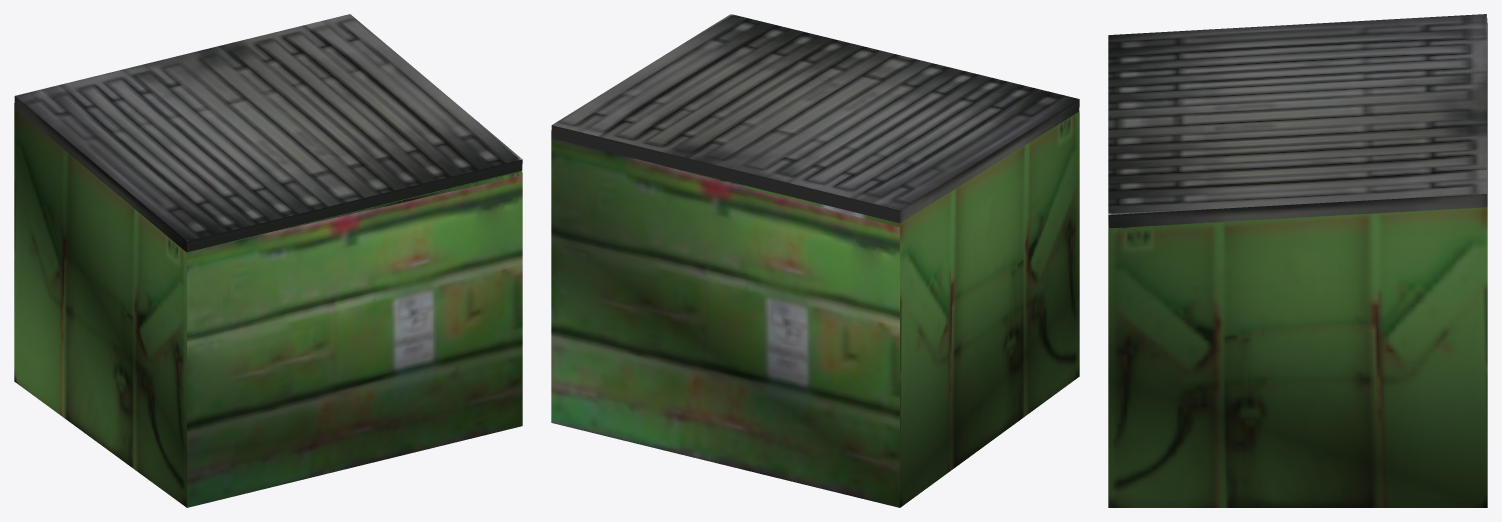
Rendered from closed_dumpster.FBX.
3 views of the same model, side by side, from view 1: azimuth 30°, elevation 25°; view 2: azimuth 150°, elevation 25°; view 3: azimuth 270°, elevation 25° (orthographic). The views are drawn at different scales.
Parts seen in each view (by area): view 1: closed_dumpster, closed_dumpster_lid; view 2: closed_dumpster, closed_dumpster_lid; view 3: closed_dumpster, closed_dumpster_lid.
Boxes of the visible parts, bbox=[...] form: closed_dumpster: bbox=[14, 108, 522, 507]; closed_dumpster_lid: bbox=[14, 14, 522, 252]; closed_dumpster: bbox=[551, 111, 1079, 507]; closed_dumpster_lid: bbox=[551, 14, 1079, 223]; closed_dumpster: bbox=[1108, 207, 1487, 507]; closed_dumpster_lid: bbox=[1108, 14, 1487, 228].
Bounding box in the file's own units: 76.69 × 62.47 × 68.41.
